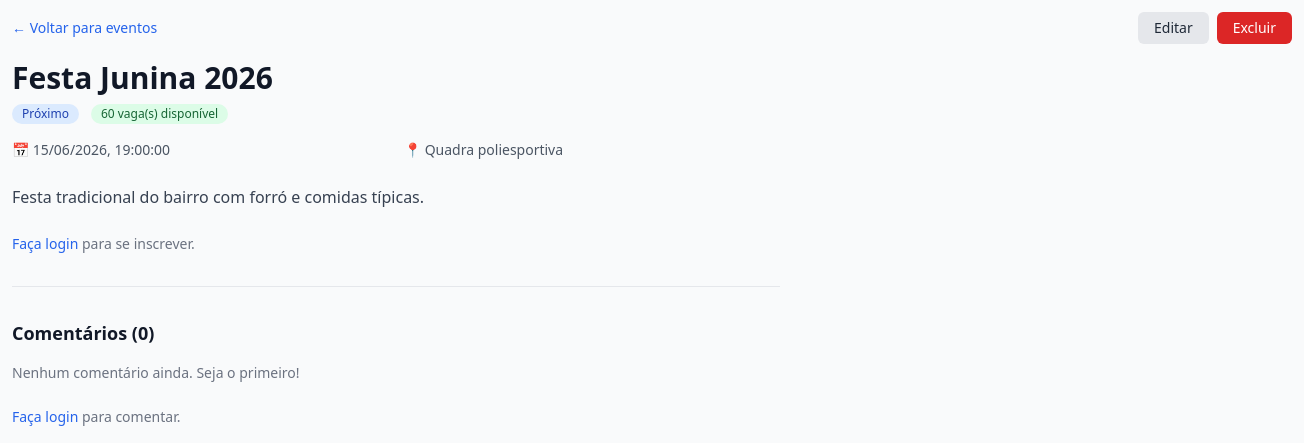
EventDetailPage — admin › solicita confirmação antes de excluir
Click the button "Excluir" at (1254, 28), box [1217,12,1292,44]
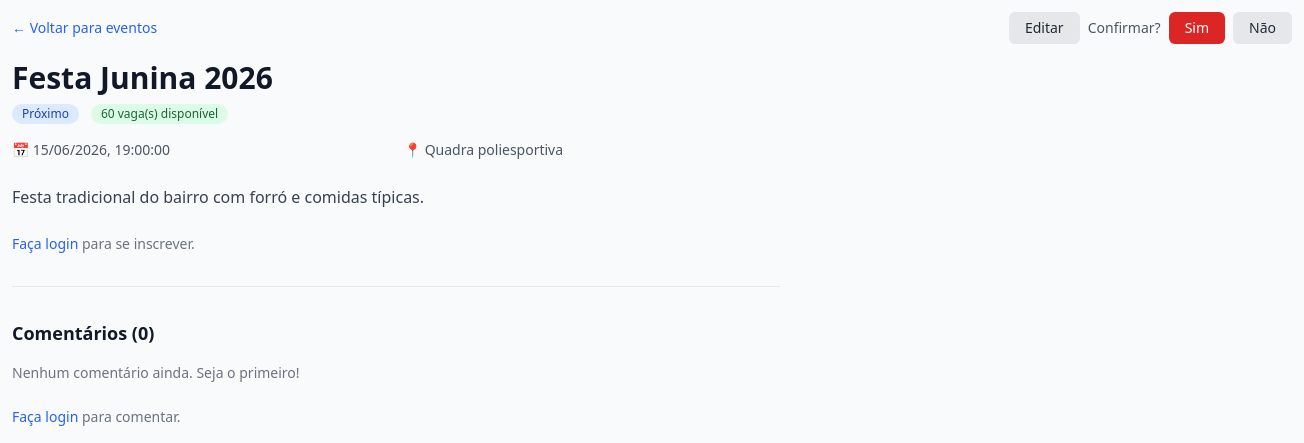
Now the text "Confirmar?" is shown, box [1088,18,1161,38]
